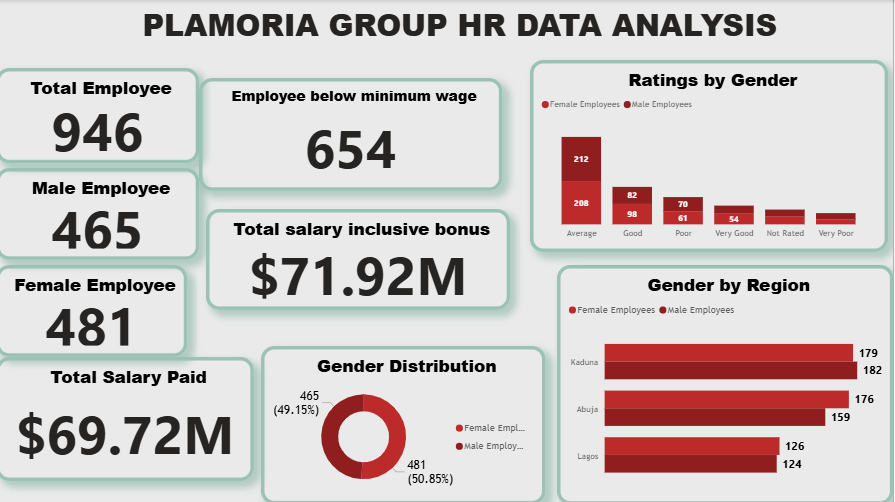

Layout of this report page (visuals, bound fields, positions):
{"tool":"powerbi","page":{"name":"DASHBOARD 1","canvas":[1280,720],"ordinal":0},"visuals":[{"type":"card","title":"Total Employee","fields":{"Values":["Palmoria Group emp-data (1).Total Employee"]},"box":[0,96.5,289.6,135.9],"z":0},{"type":"card","title":"Male Employee","fields":{"Values":["Palmoria Group emp-data (1).Male Employees"]},"box":[0,239.6,289.6,130.5],"z":1000},{"type":"card","title":"Female Employee","fields":{"Values":["Palmoria Group emp-data (1).Female Employees"]},"box":[0,378.1,272.6,131.3],"z":2000},{"type":"card","title":"Total Salary Paid","fields":{"Values":["Sum(Palmoria Group emp-data (1).Salary)"]},"box":[0,509.5,368.3,177],"z":3000},{"type":"card","title":"Employee below minimum  wage","fields":{"Values":["Palmoria Group emp-data (1).Employees Below Minimum Salary"]},"box":[289.6,110.8,432.6,160.9],"z":4000},{"type":"donutChart","title":"Gender Distribution","fields":{"Y":["Palmoria Group emp-data (1).Female Employees","Palmoria Group emp-data (1).Male Employees"]},"box":[378,494,406,226],"z":5000},{"type":"clusteredBarChart","title":"Gender by Region","fields":{"Category":["Palmoria Group emp-data (1).Location"],"Y":["Palmoria Group emp-data (1).Female Employees","Palmoria Group emp-data (1).Male Employees"]},"box":[800,378,480,342],"z":6000},{"type":"lineStackedColumnComboChart","title":"Ratings by Gender","fields":{"Category":["Palmoria Group emp-data (1).Rating"],"Y":["Palmoria Group emp-data (1).Female Employees","Palmoria Group emp-data (1).Male Employees"]},"box":[761.6,85.8,511.3,273.5],"z":7000},{"type":"textbox","box":[144,0,1064,84],"z":8000},{"type":"card","title":"Total salary inclusive bonus","fields":{"Values":["Sum(Merge1.Total Salary inclusive of bonus)"]},"box":[300,298,434,144],"z":9000}]}

Visuals, with their boxes in screenshot pixels (x1, y1, x2, y2), scaled from the page's 1280x720 canvas onto the 895x502 screenshot:
"Total Employee" card: {"x1": 0, "y1": 67, "x2": 202, "y2": 162}
"Male Employee" card: {"x1": 0, "y1": 167, "x2": 202, "y2": 258}
"Female Employee" card: {"x1": 0, "y1": 264, "x2": 191, "y2": 355}
"Total Salary Paid" card: {"x1": 0, "y1": 355, "x2": 258, "y2": 479}
"Employee below minimum  wage" card: {"x1": 202, "y1": 77, "x2": 505, "y2": 189}
"Gender Distribution" donutChart: {"x1": 264, "y1": 344, "x2": 548, "y2": 501}
"Gender by Region" clusteredBarChart: {"x1": 559, "y1": 264, "x2": 894, "y2": 501}
"Ratings by Gender" lineStackedColumnComboChart: {"x1": 533, "y1": 60, "x2": 890, "y2": 251}
textbox: {"x1": 101, "y1": 0, "x2": 845, "y2": 59}
"Total salary inclusive bonus" card: {"x1": 210, "y1": 208, "x2": 513, "y2": 308}
